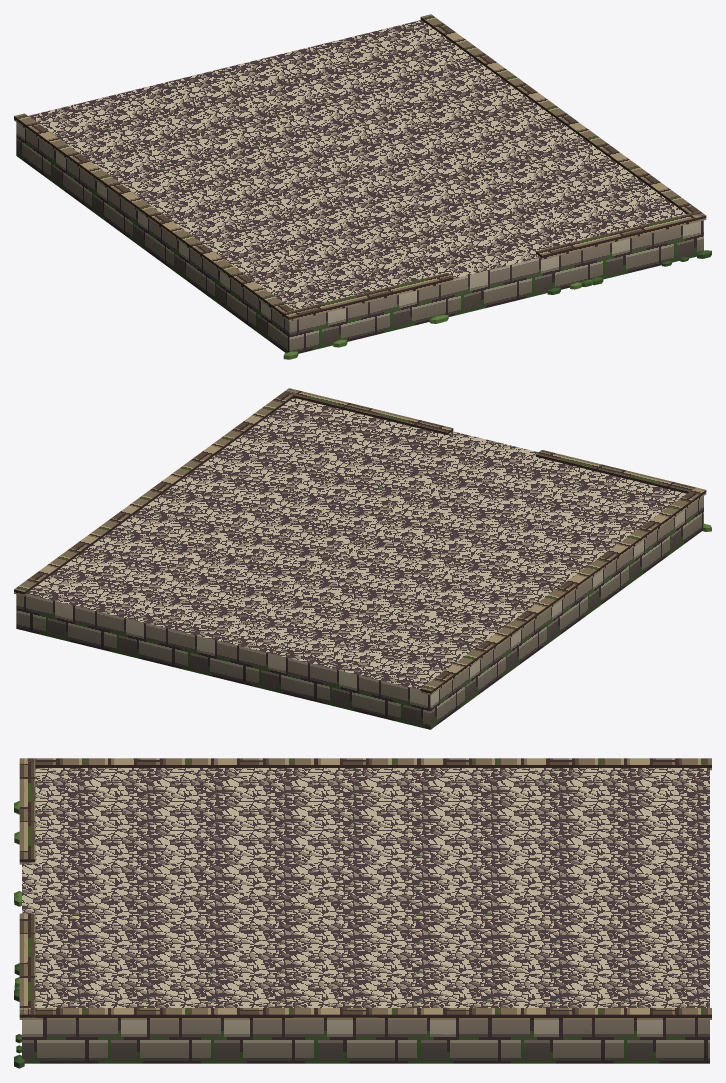
3 views of the same model, one above another, from view 1: azimuth 30°, elevation 25°; view 2: azimuth 150°, elevation 25°; view 3: azimuth 270°, elevation 25° (orthographic). The views are drawn at different scales.
Parts seen in each view (by area): view 1: scene_c5; view 2: scene_c5; view 3: scene_c5.
Part boxes in pixels (x1,y1,x2,y2): scene_c5: (14,14,711,359); scene_c5: (14,388,711,729); scene_c5: (14,758,711,1068).
Size of the model in its own units: 14.47 by 1.36 by 16.23.
3 materials, 2 textured.
